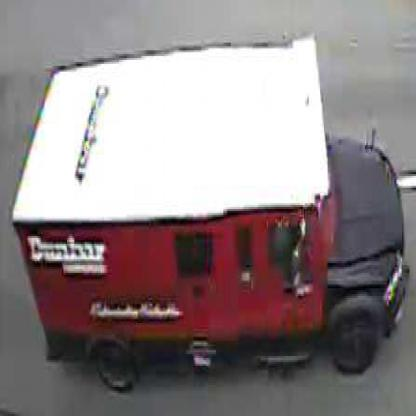truck: (19, 54, 406, 375)
